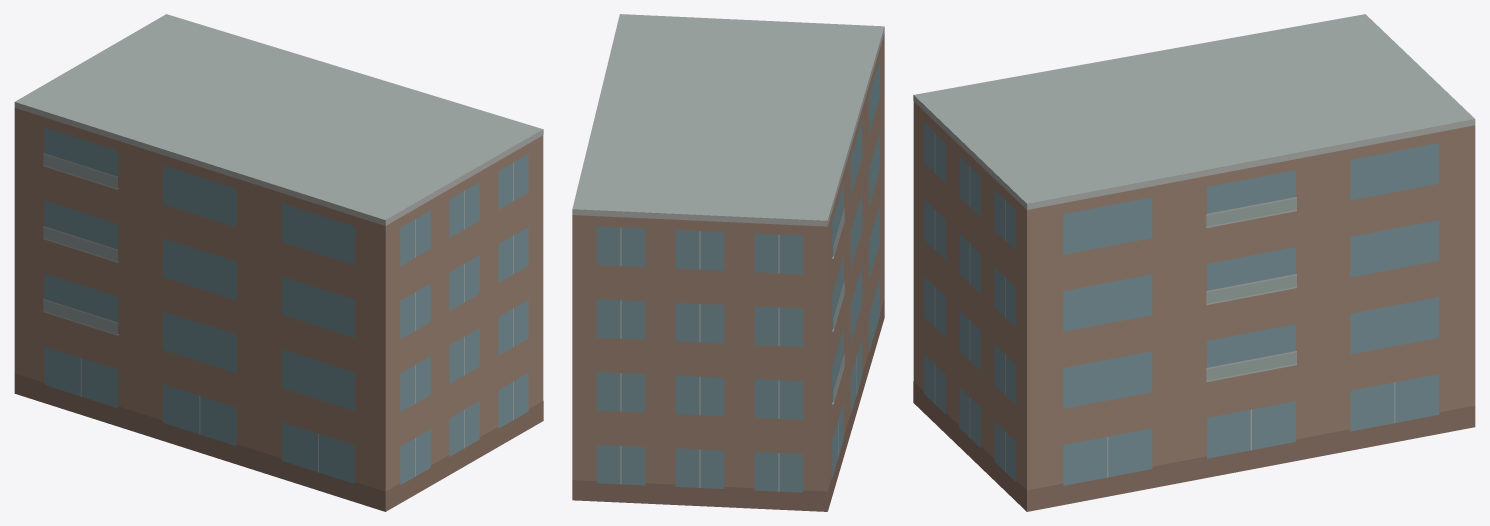
The model's file is survey-upis-32648413.glb.
3 views of the same model, side by side, from view 1: azimuth 30°, elevation 25°; view 2: azimuth 150°, elevation 25°; view 3: azimuth 270°, elevation 25° (orthographic). The views are drawn at different scales.
Parts seen in each view (by area): view 1: survey-upis-32648413.tmp; view 2: survey-upis-32648413.tmp; view 3: survey-upis-32648413.tmp.
Part boxes in pixels (left/top/right/bottom): survey-upis-32648413.tmp: left=14, top=14, right=543, bottom=511; survey-upis-32648413.tmp: left=572, top=14, right=884, bottom=511; survey-upis-32648413.tmp: left=913, top=14, right=1475, bottom=511.
Size of the model in its own units: 16.14 by 12.2 by 20.18.
